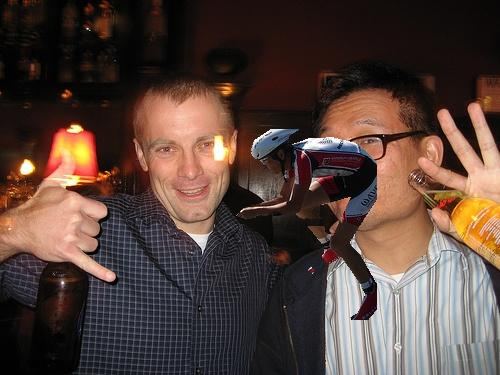tampered: (237, 130, 377, 320)
